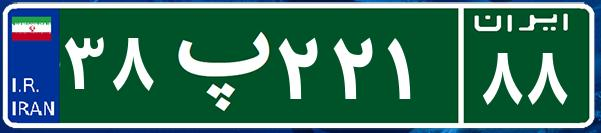1: (385, 28, 445, 110)
2: (273, 28, 330, 110), (330, 28, 385, 110)
3: (57, 26, 110, 107)
8: (475, 38, 525, 113), (110, 28, 158, 105), (525, 38, 570, 115)
پ: (158, 15, 273, 115)
